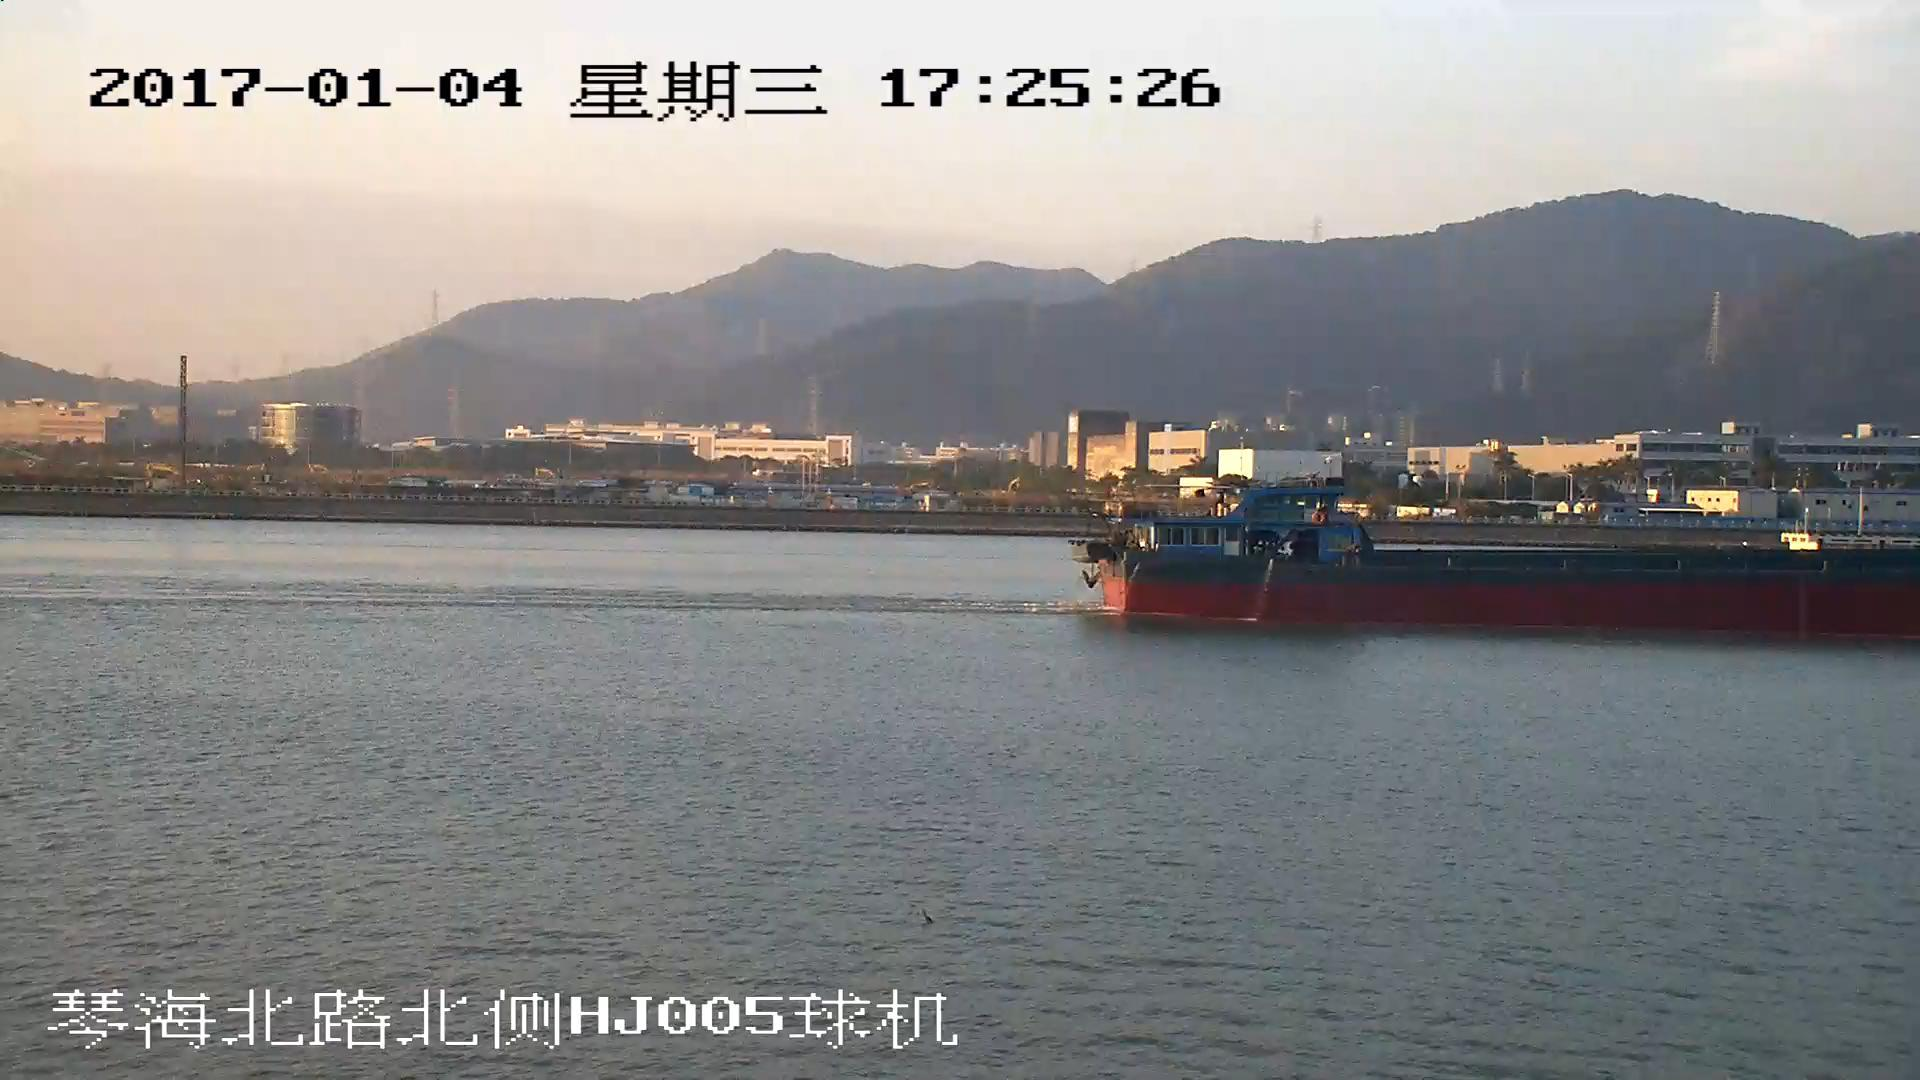Ship: (1071, 491, 1920, 640)
